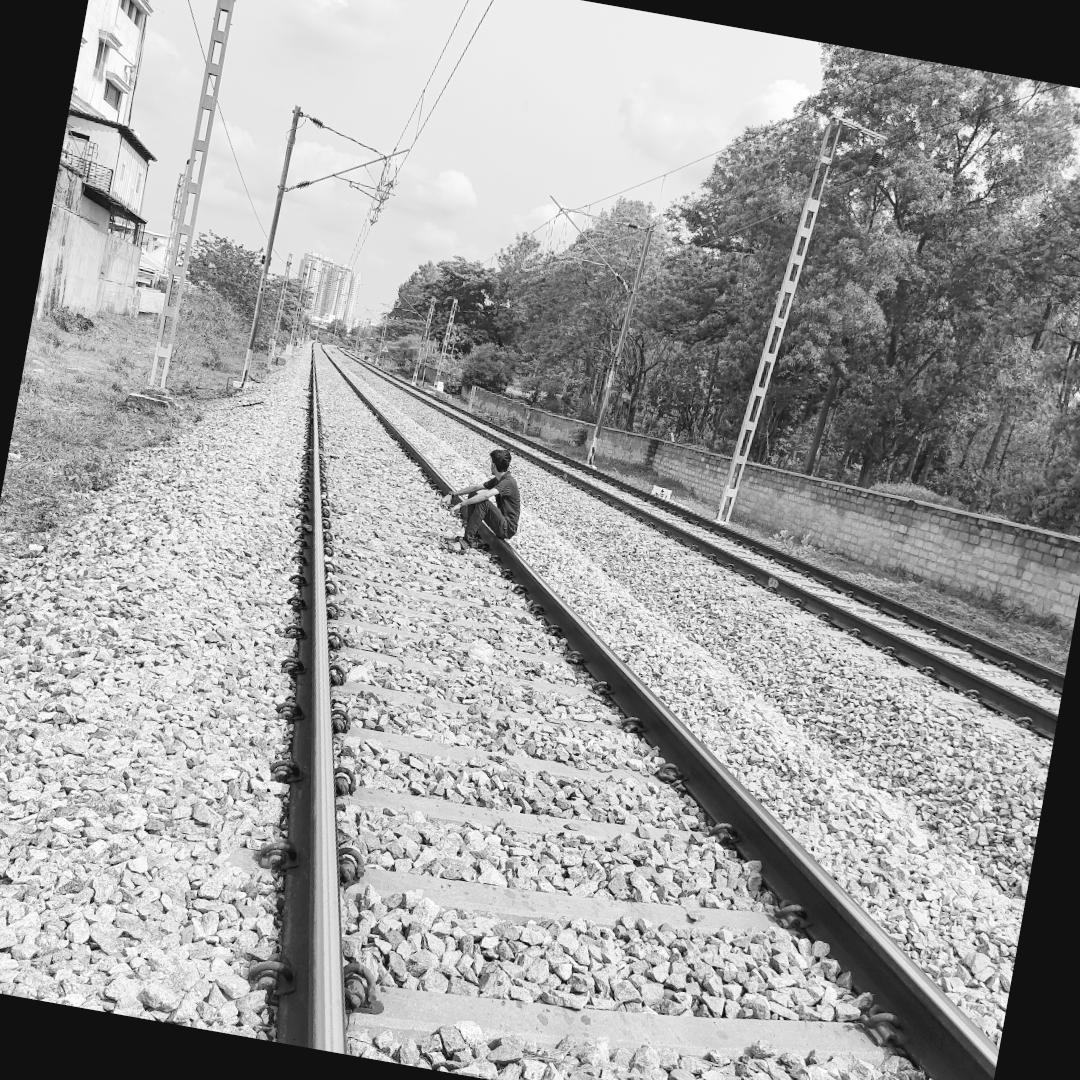sitting: (434, 444, 525, 559)
track: (262, 334, 1002, 1080)
